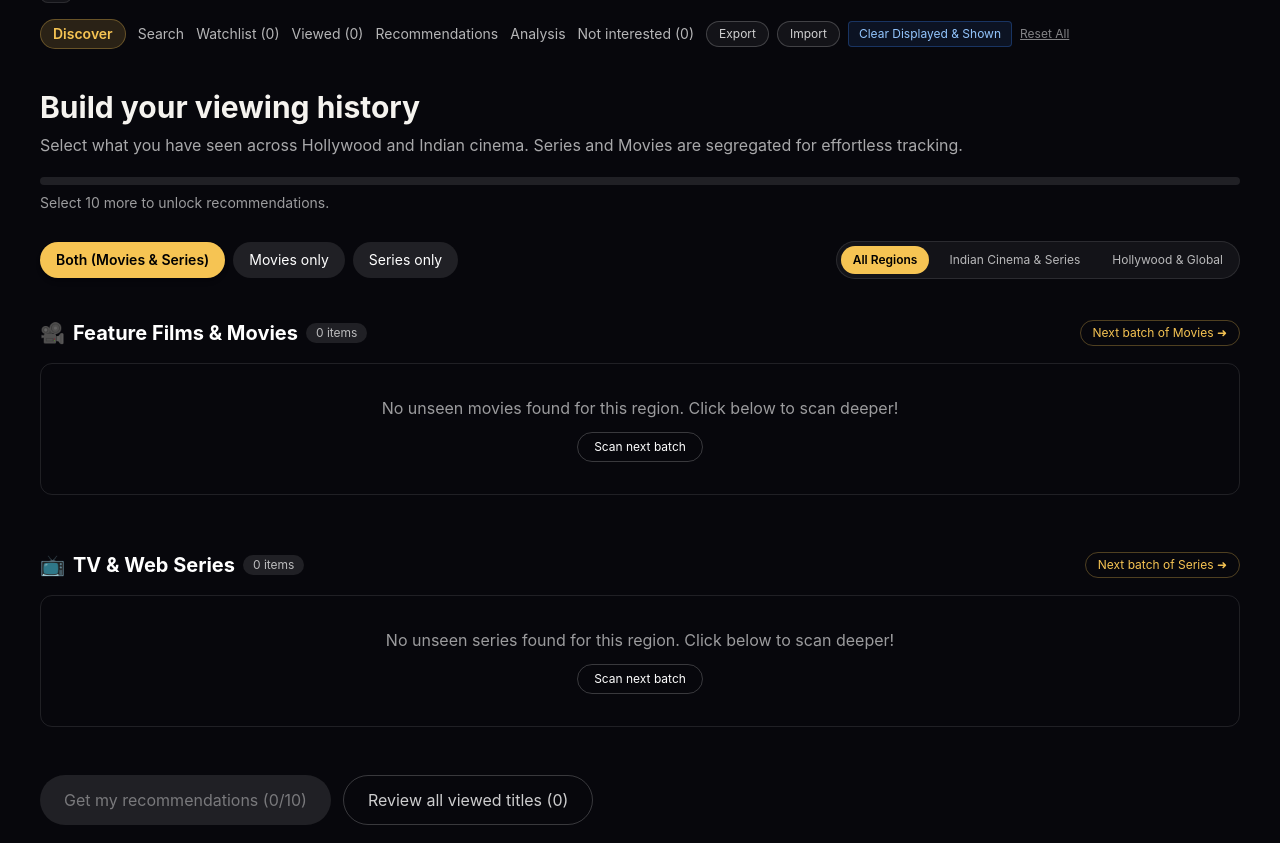
Test: Discover › offers a deeper scan when nothing unseen is left, wrapping back to page one
Expected: the text "No unseen movies found" is shown, top-left (40, 363), bottom-right (1240, 495)
Expected: the text "No unseen series found" is shown, top-left (40, 595), bottom-right (1240, 727)
Click the 1st button "Scan next batch".
click(640, 447)  # box top-left (577, 432), bottom-right (703, 462)
(page scrolled)
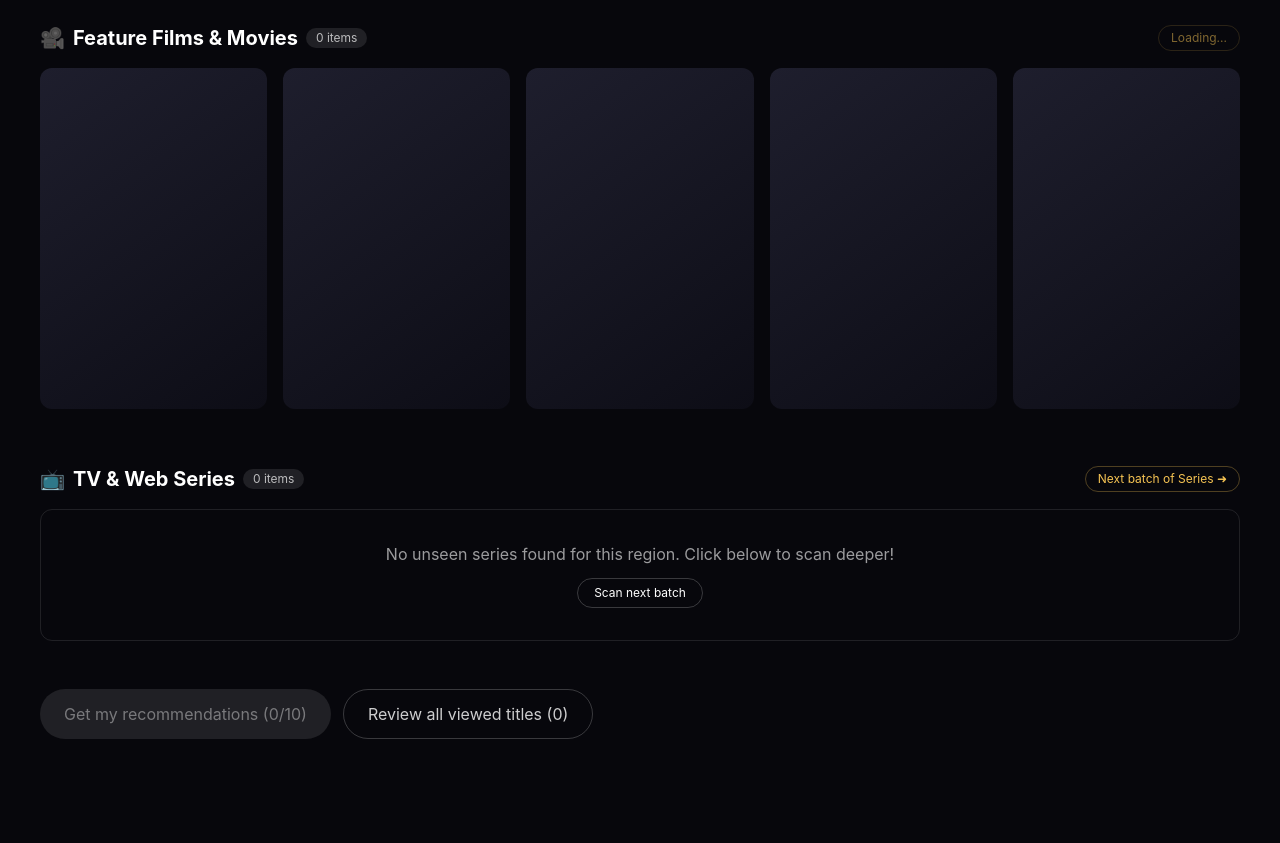
Click the button "Scan next batch".
click(640, 593)  # box top-left (577, 578), bottom-right (703, 608)
(page scrolled)
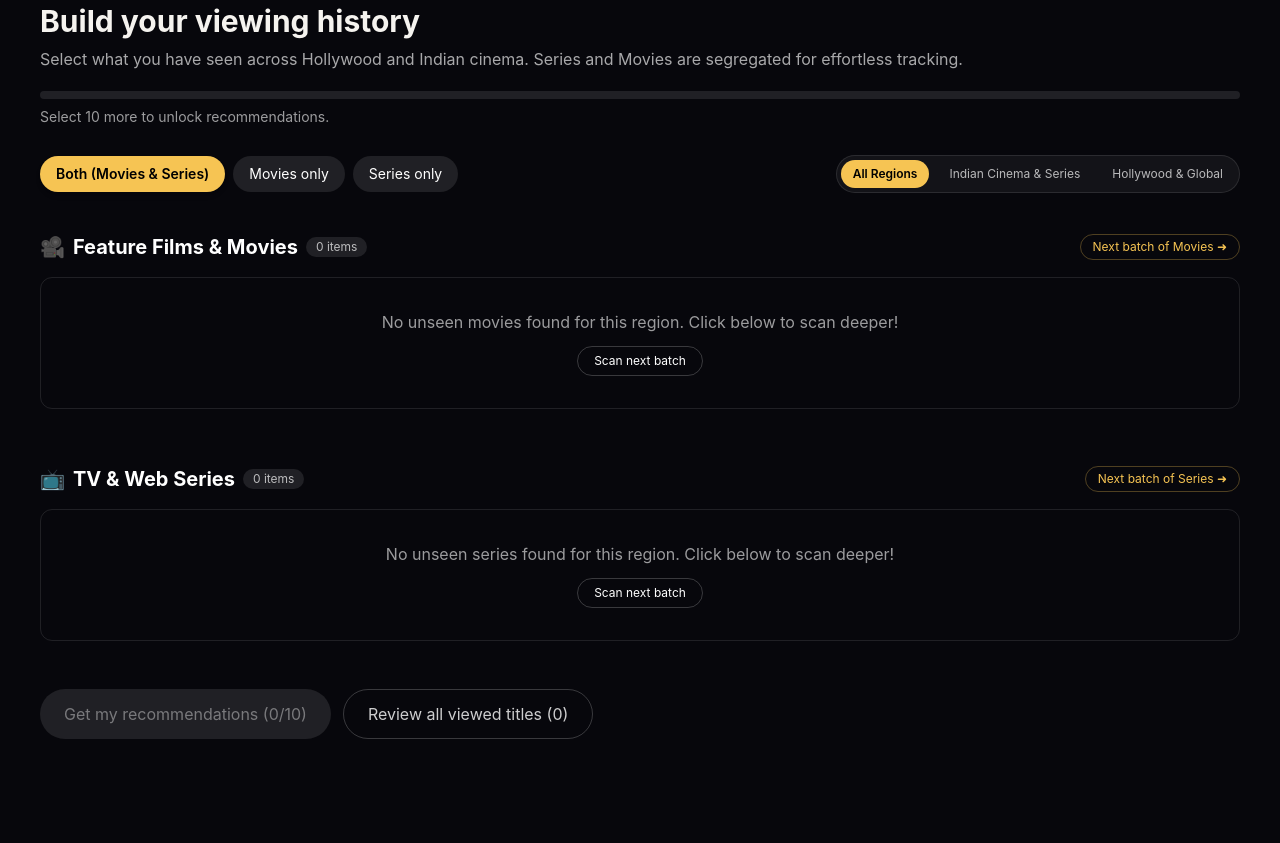
Expected: the number of buttons "Scan next batch" is 2, top-left (577, 346), bottom-right (703, 376); top-left (577, 578), bottom-right (703, 608)
